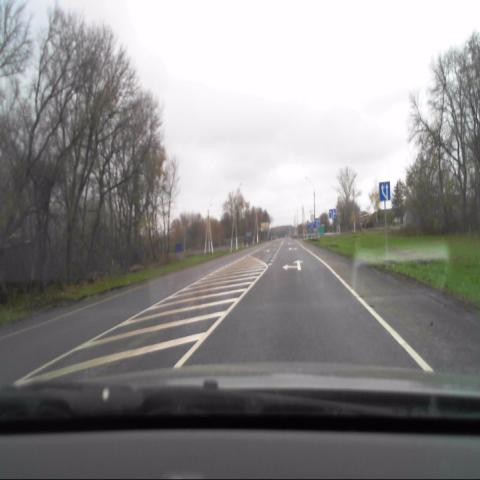5_15_3: (380, 181, 390, 202)
